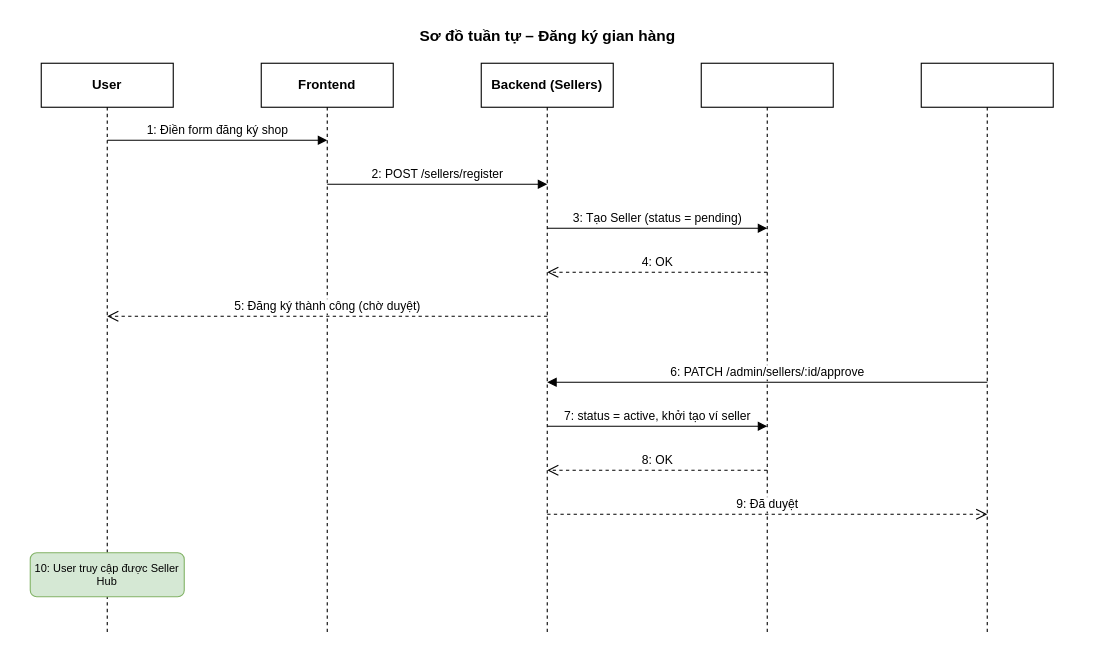
Some shapes in this 1093 by 655 pixel diagram are drawn without their labels. Each missing label, with the box of its shape:
Admin: (920, 62, 1053, 635)
MySQL: (700, 62, 833, 635)
